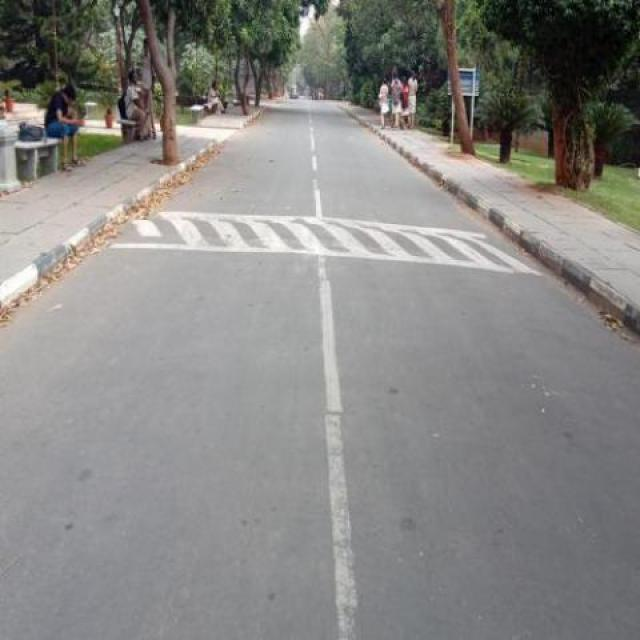Speed Bump: (107, 206, 537, 270)
